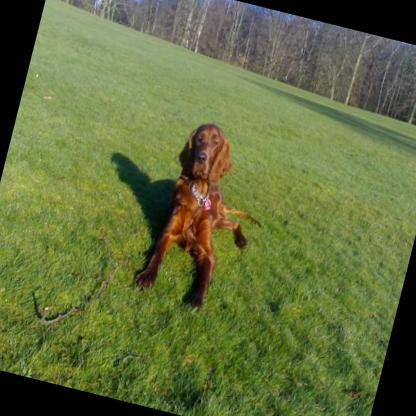Irish_setter: (130, 110, 286, 318)
